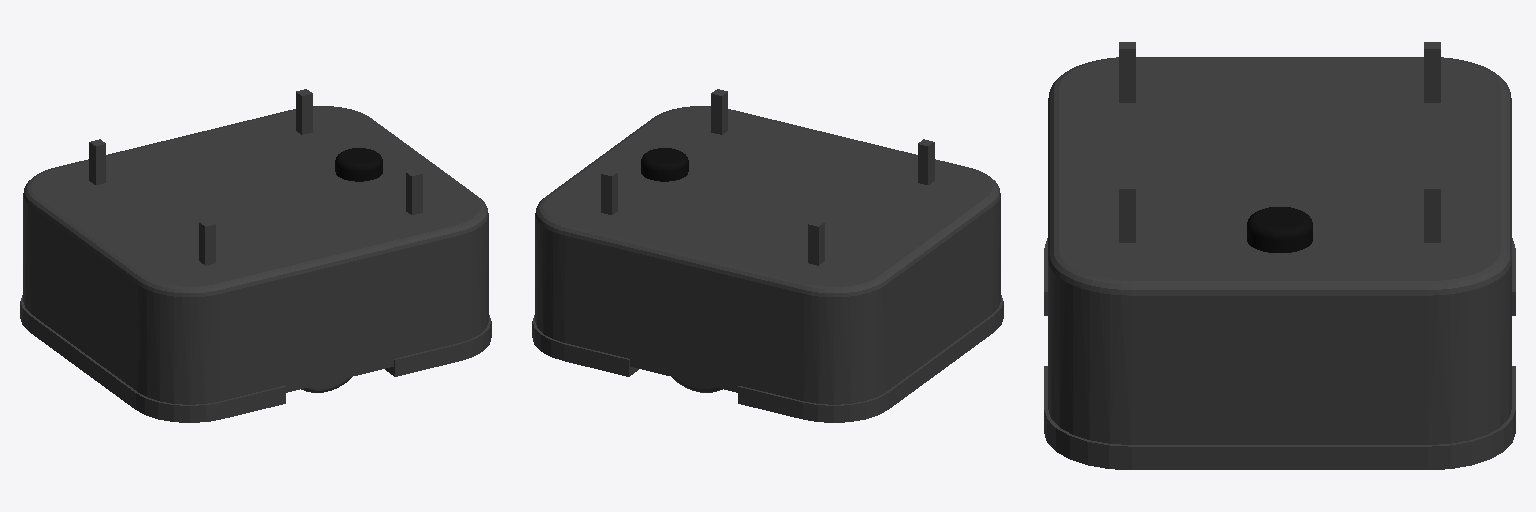
URDF robot description (view_robot_pkg):
<?xml version="1.0"?>
<robot
  name="view_robot_pkg">

  <link name="base_link">

  </link>

  <link
    name="chassis_link">
    <inertial>
      <origin
        xyz="0.00160488117063081 7.42998327793454E-14 0.0586972896654169"
        rpy="0 0 0" />
      <mass
        value="14.1391402638871" />
      <inertia
        ixx="0.370850840304947"
        ixy="5.94205753045216E-08"
        ixz="-0.00433582748427168"
        iyy="0.560125784751235"
        iyz="1.00729874807356E-08"
        izz="0.860771962850306" />
    </inertial>
    <visual>
      <origin
        xyz="0 0 0"
        rpy="0 0 0" />
      <geometry>
        <mesh
          filename="package://view_robot_pkg/meshes/chassis_link.STL" />
      </geometry>
      <material
        name="">
        <color
          rgba="0.298039215686275 0.298039215686275 0.298039215686275 1" />
      </material>
    </visual>
    <collision>
      <origin
        xyz="0 0 0"
        rpy="0 0 0" />
      <geometry>
        <mesh
          filename="package://view_robot_pkg/meshes/chassis_link.STL" />
      </geometry>
    </collision>
  </link>

  <joint name="chassis_joint" type="fixed">
    <parent link="base_link"/>
    <child link="chassis_link"/>
    <origin xyz="0 0 0"/>
  </joint>
  
  <link
    name="right_wheel_link">
    <inertial>
      <origin
        xyz="1.38777878078145E-17 0 -0.0033336681033744"
        rpy="0 0 0" />
      <mass
        value="0.607646532421707" />
      <inertia
        ixx="0.0012131554878805"
        ixy="-1.10189168666611E-20"
        ixz="5.42210519053371E-19"
        iyy="0.0012131554878805"
        iyz="-7.64458311427436E-20"
        izz="0.00226425354892904" />
    </inertial>
    <visual>
      <origin
        xyz="0 0 0"
        rpy="0 0 0" />
      <geometry>
        <mesh
          filename="package://view_robot_pkg/meshes/right_wheel_link.STL" />
      </geometry>
      <material
        name="">
        <color
          rgba="0.298039215686275 0.298039215686275 0.298039215686275 1" />
      </material>
    </visual>
    <collision>
      <origin
        xyz="0 0 0"
        rpy="0 0 0" />
      <geometry>
        <mesh
          filename="package://view_robot_pkg/meshes/right_wheel_link.STL" />
      </geometry>
    </collision>
  </link>
  <joint
    name="right_wheel_joint"
    type="continuous">
    <origin
      xyz="0 -0.21525 0.059"
      rpy="1.5708 0 0" />
    <parent
      link="chassis_link" />
    <child
      link="right_wheel_link" />
    <axis
      xyz="0 0 1" />
    <limit
      effort="10"
      velocity="10" />
    <dynamics
      damping="0.1"
      friction="0.1" />
  </joint>
  <link
    name="left_wheel_link">
    <inertial>
      <origin
        xyz="6.93889390390723E-18 0 -0.0033336681033744"
        rpy="0 0 0" />
      <mass
        value="0.607646532421707" />
      <inertia
        ixx="0.0012131554878805"
        ixy="2.00227494239461E-20"
        ixz="1.22658200929116E-19"
        iyy="0.0012131554878805"
        iyz="1.6778257548726E-19"
        izz="0.00226425354892905" />
    </inertial>
    <visual>
      <origin
        xyz="0 0 0"
        rpy="0 0 0" />
      <geometry>
        <mesh
          filename="package://view_robot_pkg/meshes/left_wheel_link.STL" />
      </geometry>
      <material
        name="">
        <color
          rgba="0.298039215686275 0.298039215686275 0.298039215686275 1" />
      </material>
    </visual>
    <collision>
      <origin
        xyz="0 0 0"
        rpy="0 0 0" />
      <geometry>
        <mesh
          filename="package://view_robot_pkg/meshes/left_wheel_link.STL" />
      </geometry>
    </collision>
  </link>
  <joint
    name="left_wheel_joint"
    type="continuous">
    <origin
      xyz="0 0.21525 0.059"
      rpy="-1.5708 0 0" />
    <parent
      link="chassis_link" />
    <child
      link="left_wheel_link" />
    <axis
      xyz="0 0 1" />
    <limit
      effort="10"
      velocity="10" />
    <dynamics
      damping="0.1"
      friction="0.1" />
  </joint>
  <link
    name="front_caster_link">
    <inertial>
      <origin
        xyz="-1.73472347597681E-18 0.00307582275551371 -0.000214563963355507"
        rpy="0 0 0" />
      <mass
        value="0.0166098336740514" />
      <inertia
        ixx="3.17556044245009E-06"
        ixy="-3.99690651779482E-23"
        ixz="-7.13695192058384E-22"
        iyy="6.17119542578324E-06"
        iyz="-5.98584872044275E-09"
        izz="3.15571773335254E-06" />
    </inertial>
    <visual>
      <origin
        xyz="0 0 0"
        rpy="0 0 0" />
      <geometry>
        <mesh
          filename="package://view_robot_pkg/meshes/front_caster_link.STL" />
      </geometry>
      <material
        name="">
        <color
          rgba="0.752941176470588 0.752941176470588 0.752941176470588 1" />
      </material>
    </visual>
    <collision>
      <origin
        xyz="0 0 0"
        rpy="0 0 0" />
      <geometry>
        <mesh
          filename="package://view_robot_pkg/meshes/front_caster_link.STL" />
      </geometry>
    </collision>
  </link>
  <joint
    name="front_caster_joint"
    type="fixed">
    <origin
      xyz="0.24008 0 -0.0075"
      rpy="1.5708 0 1.5708" />
    <parent
      link="chassis_link" />
    <child
      link="front_caster_link" />
    <axis
      xyz="0 0 0" />
    <dynamics
      damping="0"
      friction="0.001" />
  </joint>
  <link
    name="rear_caster_link">
    <inertial>
      <origin
        xyz="-5.42101086242752E-19 0.00307582275551374 -0.000214563963355535"
        rpy="0 0 0" />
      <mass
        value="0.0166098336740514" />
      <inertia
        ixx="3.17556044245008E-06"
        ixy="-5.80759606415862E-23"
        ixz="-1.11340375957578E-21"
        iyy="6.17119542578323E-06"
        iyz="-5.98584872044279E-09"
        izz="3.15571773335253E-06" />
    </inertial>
    <visual>
      <origin
        xyz="0 0 0"
        rpy="0 0 0" />
      <geometry>
        <mesh
          filename="package://view_robot_pkg/meshes/rear_caster_link.STL" />
      </geometry>
      <material
        name="">
        <color
          rgba="0.752941176470588 0.752941176470588 0.752941176470588 1" />
      </material>
    </visual>
    <collision>
      <origin
        xyz="0 0 0"
        rpy="0 0 0" />
      <geometry>
        <mesh
          filename="package://view_robot_pkg/meshes/rear_caster_link.STL" />
      </geometry>
    </collision>
  </link>
  <joint
    name="rear_caster_joint"
    type="fixed">
    <origin
      xyz="-0.23992 0 -0.0075"
      rpy="1.5708 0 1.5708" />
    <parent
      link="chassis_link" />
    <child
      link="rear_caster_link" />
    <axis
      xyz="0 0 0" />
    <dynamics
      damping="0"
      friction="0.001" />
  </joint>
  <link
    name="lidar_link">
    <inertial>
      <origin
        xyz="2.77555756156289E-17 -1.0842021724855E-19 0.00453922672831607"
        rpy="0 0 0" />
      <mass
        value="0.119929974024276" />
      <inertia
        ixx="4.91121628916408E-05"
        ixy="0"
        ixz="-1.23314120794229E-21"
        iyy="4.91121628916408E-05"
        iyz="-4.25624098060558E-37"
        izz="8.38521426772856E-05" />
    </inertial>
    <visual>
      <origin
        xyz="0 0 0"
        rpy="0 0 0" />
      <geometry>
        <mesh
          filename="package://view_robot_pkg/meshes/lidar_link.STL" />
      </geometry>
      <material
        name="">
        <color
          rgba="0.101960784313725 0.101960784313725 0.101960784313725 1" />
      </material>
    </visual>
    <collision>
      <origin
        xyz="0 0 0"
        rpy="0 0 0" />
      <geometry>
        <mesh
          filename="package://view_robot_pkg/meshes/lidar_link.STL" />
      </geometry>
    </collision>
  </link>
  <joint
    name="lidar_joint"
    type="fixed">
    <origin
      xyz="0.19 0 0.24025"
      rpy="0 0 0" />
    <parent
      link="chassis_link" />
    <child
      link="lidar_link" />
    <axis
      xyz="0 0 0" />
  </joint>
</robot>

--- Facts derived from the render (not from the file) ---
Views: 3 orthographic renders of the robot side by side, from view 1: azimuth 30°, elevation 25°; view 2: azimuth 150°, elevation 25°; view 3: azimuth 270°, elevation 25°.
Model view_robot_pkg with 7 links and 6 joints (2 continuous, 4 fixed), rooted at base_link, posed all joints at 0.
Visible links, largest first — view 1: chassis_link, lidar_link; view 2: chassis_link, lidar_link; view 3: chassis_link, lidar_link.
Link boxes in pixels (x1=…): chassis_link: x1=20, y1=89, x2=491, y2=422; lidar_link: x1=335, y1=148, x2=382, y2=181; chassis_link: x1=532, y1=89, x2=1003, y2=422; lidar_link: x1=641, y1=148, x2=688, y2=181; chassis_link: x1=1044, y1=42, x2=1515, y2=469; lidar_link: x1=1247, y1=207, x2=1312, y2=252.
Bounding box of the posed robot: 0.64 × 0.54 × 0.321 m (x, y, z).
6 mesh visuals loaded from 6 distinct referenced files (6 binary STL).